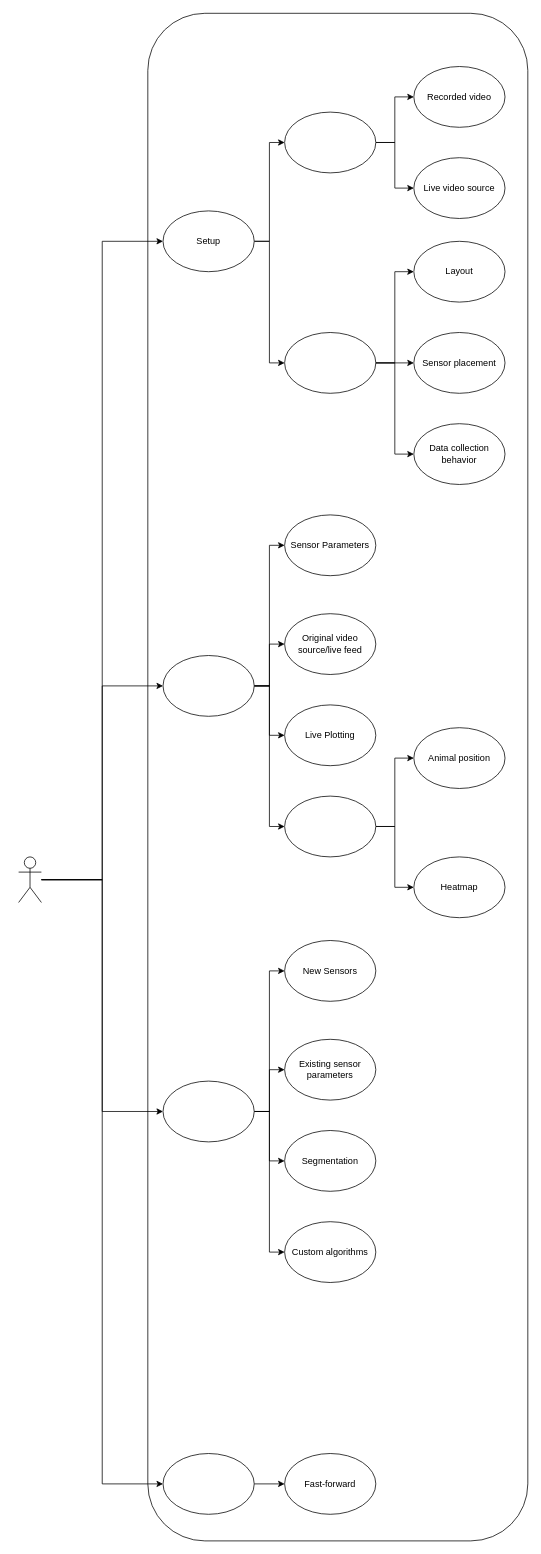
Some shapes in this 541 by 1554 pixel diagram are drawn without their labels. Each missing label, with the centre of its shape:
"Analysis" belongs at (208,1483).
"Compute-vision indices" belongs at (330,826).
"Configs" belongs at (330,362).
"Data input" belongs at (330,142).
"Defining" belongs at (208,1111).
"Monitoring" belongs at (208,685).
"Scientist" belongs at (29,879).
